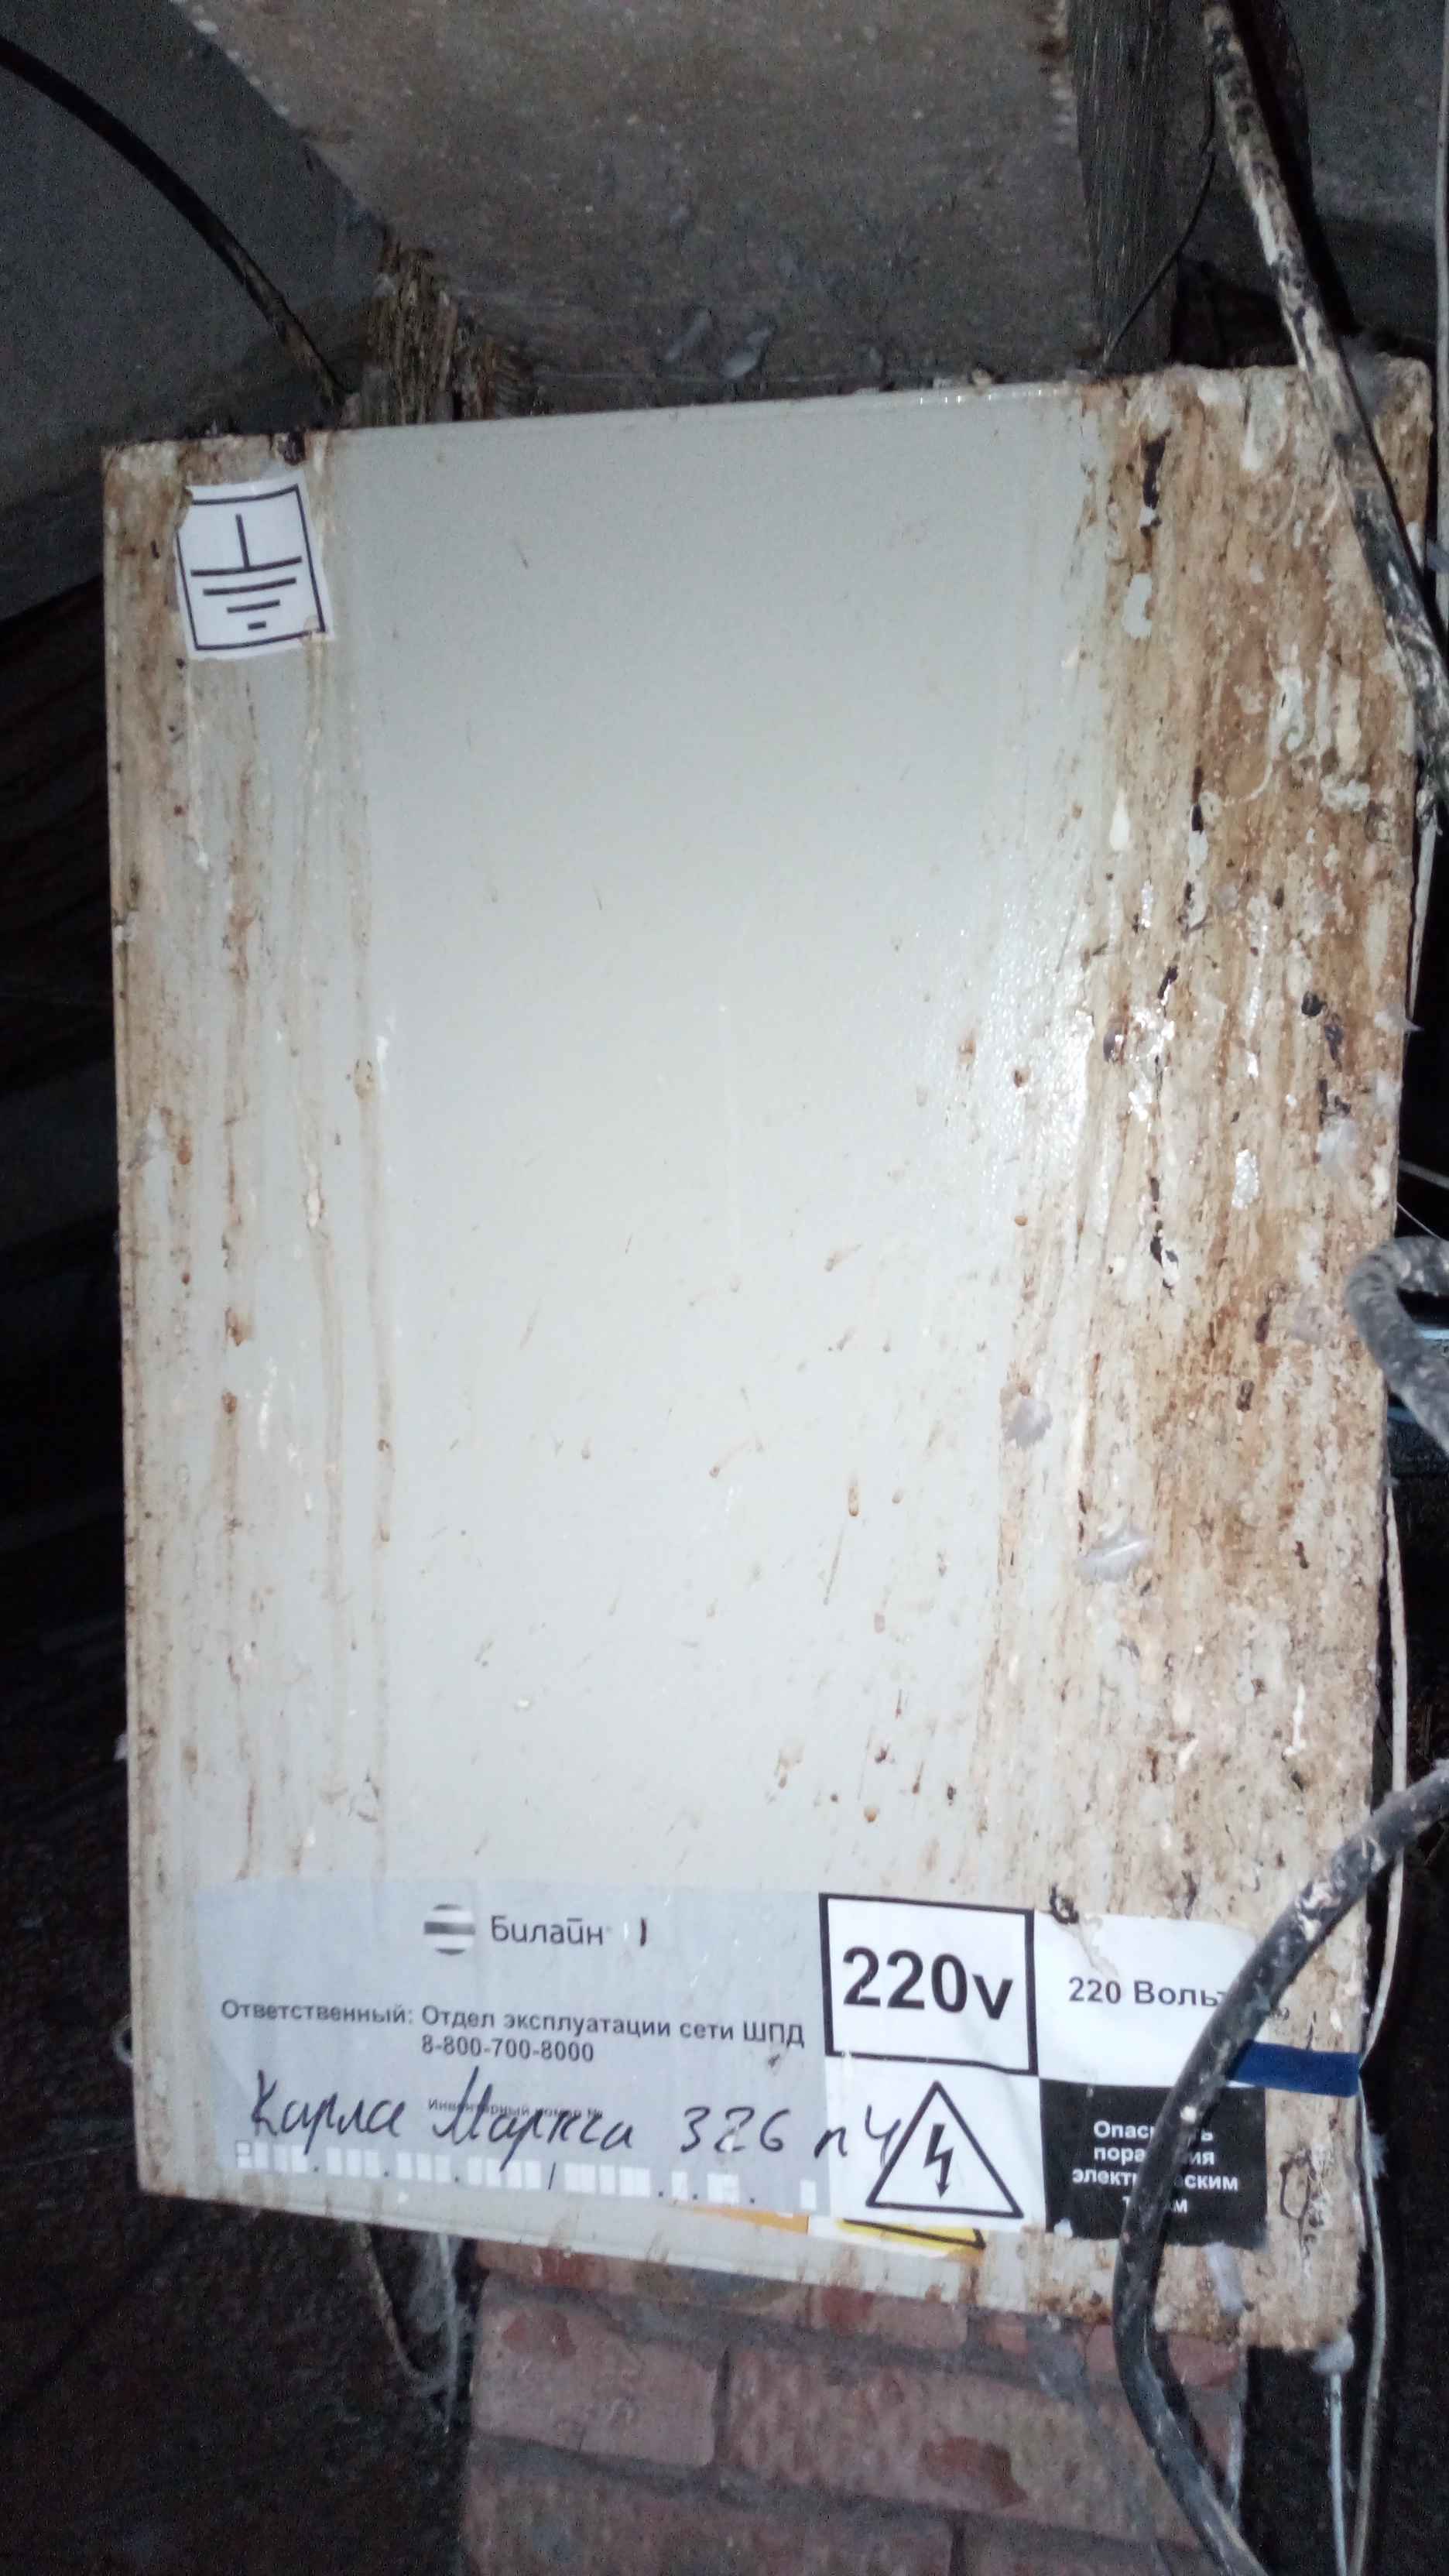sv-5: (85, 340, 1428, 2373)
